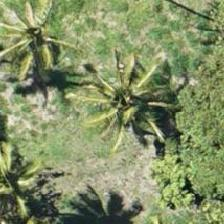coconut_tree: (79, 41, 169, 131), (0, 0, 85, 81), (0, 125, 49, 215)
